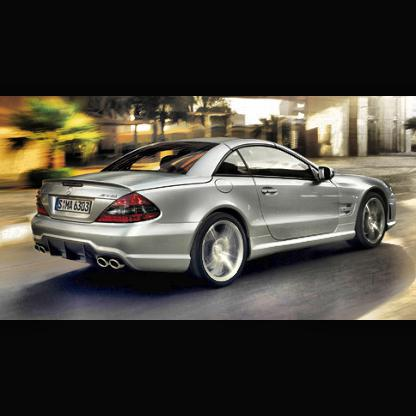Mercedes-Benz SL-Class Coupe 2009: (31, 137, 399, 292)
